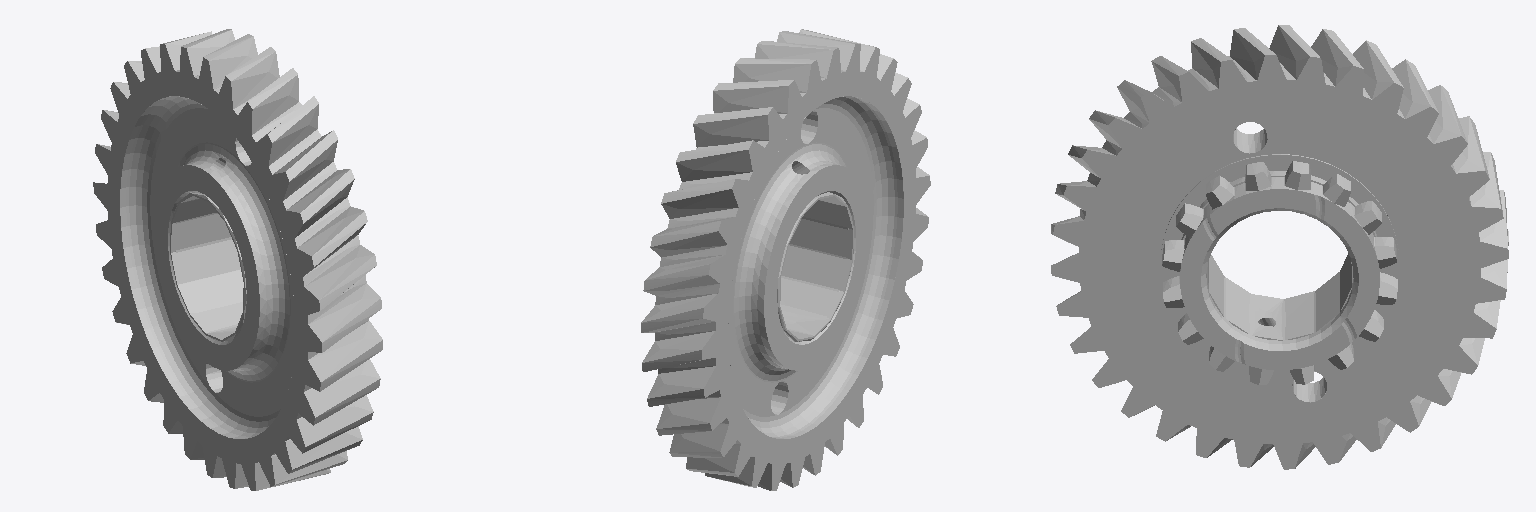
File: 72. Шестерня второй передачи в сборе.obj
3 views of the same model, side by side, from view 1: azimuth 30°, elevation 25°; view 2: azimuth 150°, elevation 25°; view 3: azimuth 270°, elevation 25° (orthographic).
Visible parts, largest first — view 1: Solid1, Твердое тело1, Твердое тело1:1; view 2: Solid1, Твердое тело1, Твердое тело1:1; view 3: Твердое тело1, Solid1, Твердое тело1:1.
Part boxes in pixels (x1,y1,x2,y2): Solid1: (93, 29, 382, 490); Твердое тело1: (111, 79, 303, 455); Твердое тело1:1: (170, 192, 246, 342); Solid1: (641, 29, 930, 490); Твердое тело1: (719, 79, 912, 454); Твердое тело1:1: (777, 192, 853, 341); Твердое тело1: (1087, 87, 1472, 436); Solid1: (1051, 25, 1508, 469); Твердое тело1:1: (1206, 253, 1353, 340).
Bounding box in the file's own units: 32 × 130 × 130.